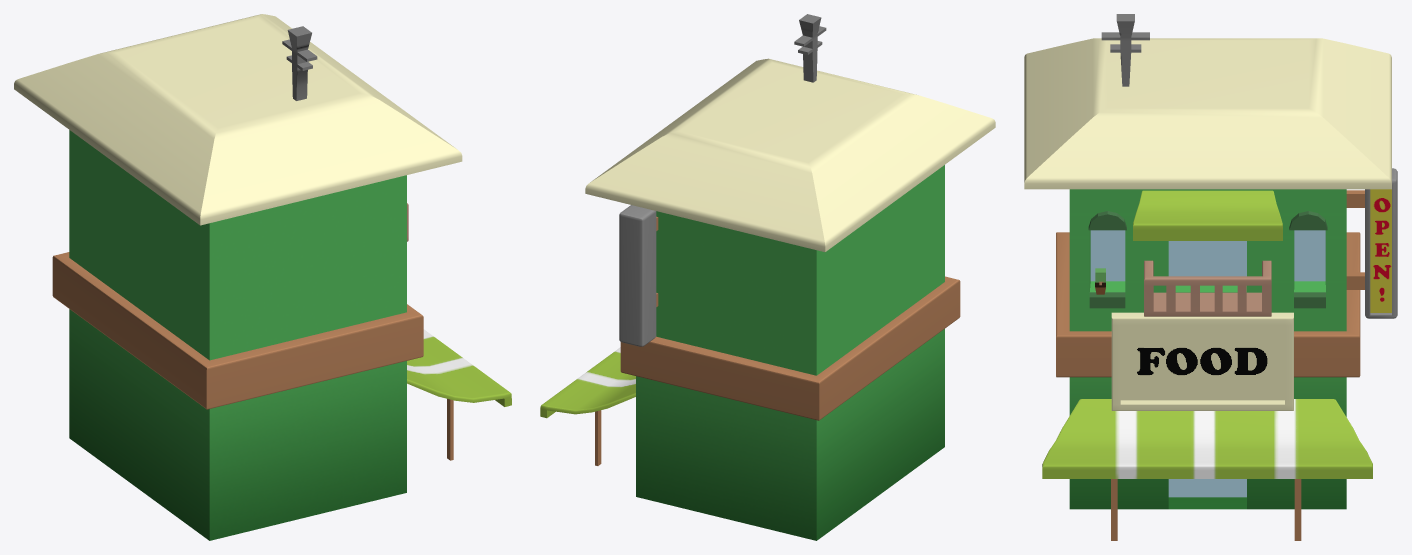
File: BuildingShort_04.fbx
3 renders of one model, left to right at view 1: azimuth 30°, elevation 25°; view 2: azimuth 150°, elevation 25°; view 3: azimuth 270°, elevation 25°, orthographic. The views are drawn at different scales.
Parts seen in each view (by area): view 1: polySurface723; view 2: polySurface723; view 3: polySurface723.
Boxes of the visible parts, bbox=[...] form: polySurface723: bbox=[14, 14, 511, 540]; polySurface723: bbox=[540, 14, 995, 540]; polySurface723: bbox=[1024, 14, 1397, 540].
Size of the model in its own units: 4.91 by 6.72 by 5.01.
